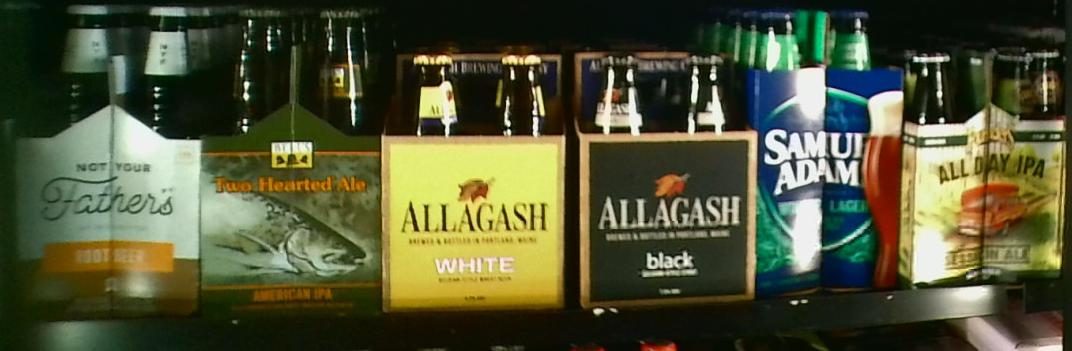bottle: (4, 1, 200, 323), (201, 5, 385, 315), (389, 44, 571, 312), (574, 52, 755, 306), (757, 8, 904, 292), (906, 41, 1065, 279)
